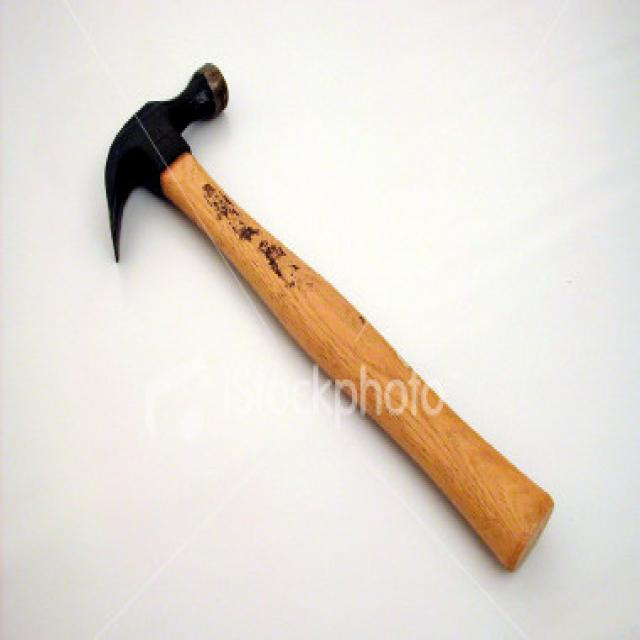hammer: (54, 31, 396, 388)
